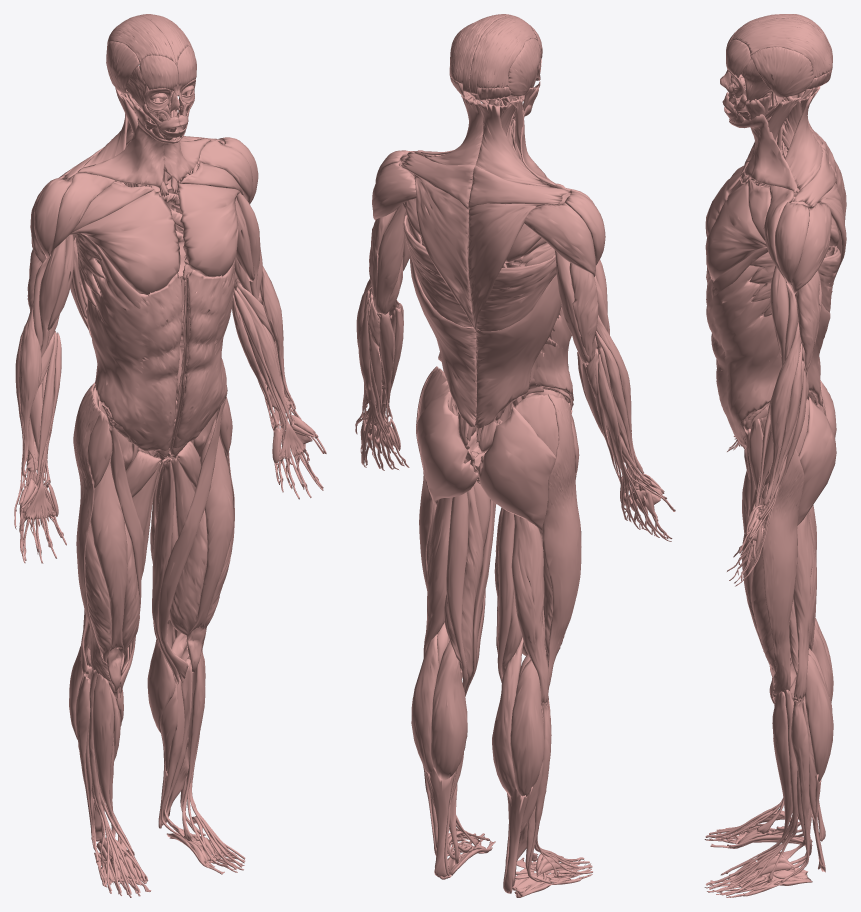
The model's file is muscles.glb.
3 renders of one model, left to right at view 1: azimuth 30°, elevation 25°; view 2: azimuth 150°, elevation 25°; view 3: azimuth 270°, elevation 25°, orthographic. The views are drawn at different scales.
Parts seen in each view (by area): view 1: External abdominal oblique muscle.r, Sternocostal head of pectoralis major muscle.r, External abdominal oblique muscle.l, Sternocostal head of pectoralis major muscle.l, Rectus femoris muscle.r, Rectus femoris muscle.l, Sartorius muscle.l, Iliotibial tract.r, Platysma.r, Vastus medialis muscle.l, Gracilis muscle.l, Tibialis anterior muscle.r (+45 smaller); view 2: Latissimus dorsi muscle.r, Iliotibial tract.r, Latissimus dorsi muscle.l, Gluteus maximus muscle.r, Descending part of trapezius muscle.l, Long head of biceps femoris.r, Descending part of trapezius muscle.r, Gluteus maximus muscle.l, Medial head of gastrocnemius.l, Lateral head of gastrocnemius.r, Epicranial aponeurosis.r, Scapular spinal part of deltoid muscle.r (+35 smaller); view 3: External abdominal oblique muscle.l, Iliotibial tract.l, Sternocostal head of pectoralis major muscle.l, Epicranial aponeurosis.l, Long head of biceps femoris.l, Gluteus maximus muscle.l, Temporoparietalis muscle.l, Lateral head of gastrocnemius.l, Platysma.l, Brachioradialis muscle.l, Acromial part of deltoid muscle.l, Scapular spinal part of deltoid muscle.l (+42 smaller).
Boxes of the visible parts, x1=… form: External abdominal oblique muscle.r: x1=86, y1=260, x2=182, y2=451; Sternocostal head of pectoralis major muscle.r: x1=70, y1=190, x2=180, y2=294; External abdominal oblique muscle.l: x1=174, y1=266, x2=234, y2=447; Sternocostal head of pectoralis major muscle.l: x1=178, y1=183, x2=239, y2=277; Rectus femoris muscle.r: x1=90, y1=444, x2=127, y2=691; Rectus femoris muscle.l: x1=186, y1=419, x2=233, y2=672; Sartorius muscle.l: x1=158, y1=399, x2=225, y2=682; Iliotibial tract.r: x1=73, y1=382, x2=110, y2=681; Platysma.r: x1=78, y1=118, x2=176, y2=187; Vastus medialis muscle.l: x1=169, y1=510, x2=207, y2=658; Gracilis muscle.l: x1=152, y1=459, x2=179, y2=683; Tibialis anterior muscle.r: x1=92, y1=673, x2=134, y2=855; Latissimus dorsi muscle.r: x1=475, y1=254, x2=561, y2=428; Iliotibial tract.r: x1=542, y1=394, x2=581, y2=688; Latissimus dorsi muscle.l: x1=403, y1=215, x2=476, y2=426; Gluteus maximus muscle.r: x1=478, y1=406, x2=555, y2=530; Descending part of trapezius muscle.l: x1=414, y1=174, x2=475, y2=330; Long head of biceps femoris.r: x1=511, y1=514, x2=549, y2=703; Descending part of trapezius muscle.r: x1=468, y1=203, x2=544, y2=330; Gluteus maximus muscle.l: x1=416, y1=391, x2=478, y2=505; Medial head of gastrocnemius.l: x1=431, y1=640, x2=467, y2=780; Lateral head of gastrocnemius.r: x1=510, y1=659, x2=544, y2=796; Epicranial aponeurosis.r: x1=469, y1=15, x2=538, y2=94; Scapular spinal part of deltoid muscle.r: x1=524, y1=202, x2=595, y2=276; External abdominal oblique muscle.l: x1=706, y1=265, x2=781, y2=445; Iliotibial tract.l: x1=759, y1=415, x2=804, y2=695; Sternocostal head of pectoralis major muscle.l: x1=705, y1=181, x2=766, y2=279; Epicranial aponeurosis.l: x1=730, y1=18, x2=832, y2=78; Long head of biceps femoris.l: x1=793, y1=511, x2=816, y2=700; Gluteus maximus muscle.l: x1=797, y1=397, x2=836, y2=525; Temporoparietalis muscle.l: x1=750, y1=47, x2=813, y2=97; Lateral head of gastrocnemius.l: x1=805, y1=654, x2=833, y2=781; Platysma.l: x1=729, y1=114, x2=797, y2=192; Brachioradialis muscle.l: x1=763, y1=321, x2=800, y2=506; Acromial part of deltoid muscle.l: x1=775, y1=202, x2=809, y2=285; Scapular spinal part of deltoid muscle.l: x1=792, y1=203, x2=831, y2=294.
Bounding box in the file's own units: 0.6598 × 1.7 × 0.2586.
